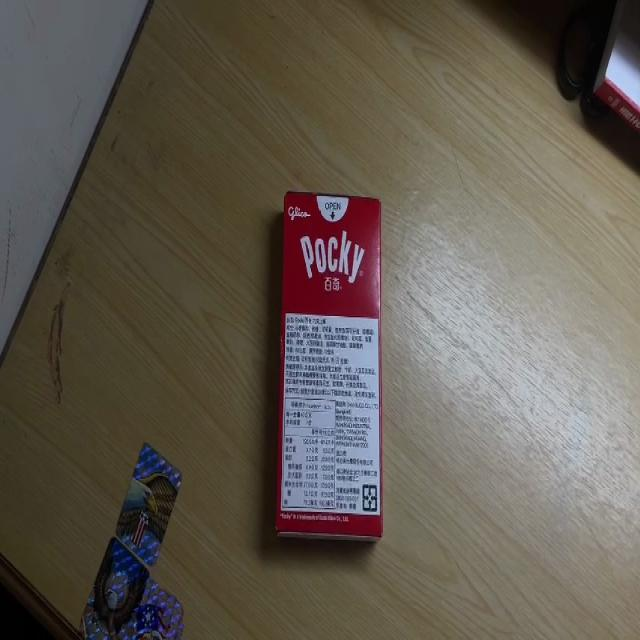Pocky: (277, 190, 385, 539)
